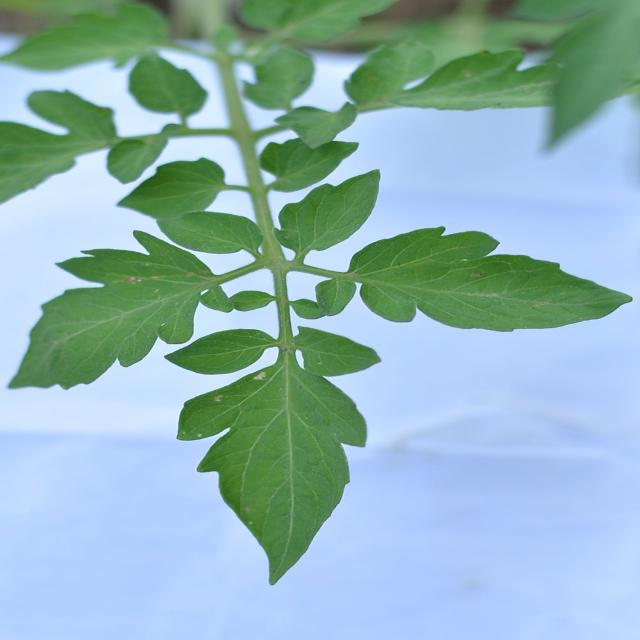healthy: (159, 326, 378, 593), (2, 206, 290, 394), (354, 220, 640, 352), (0, 0, 174, 68)
